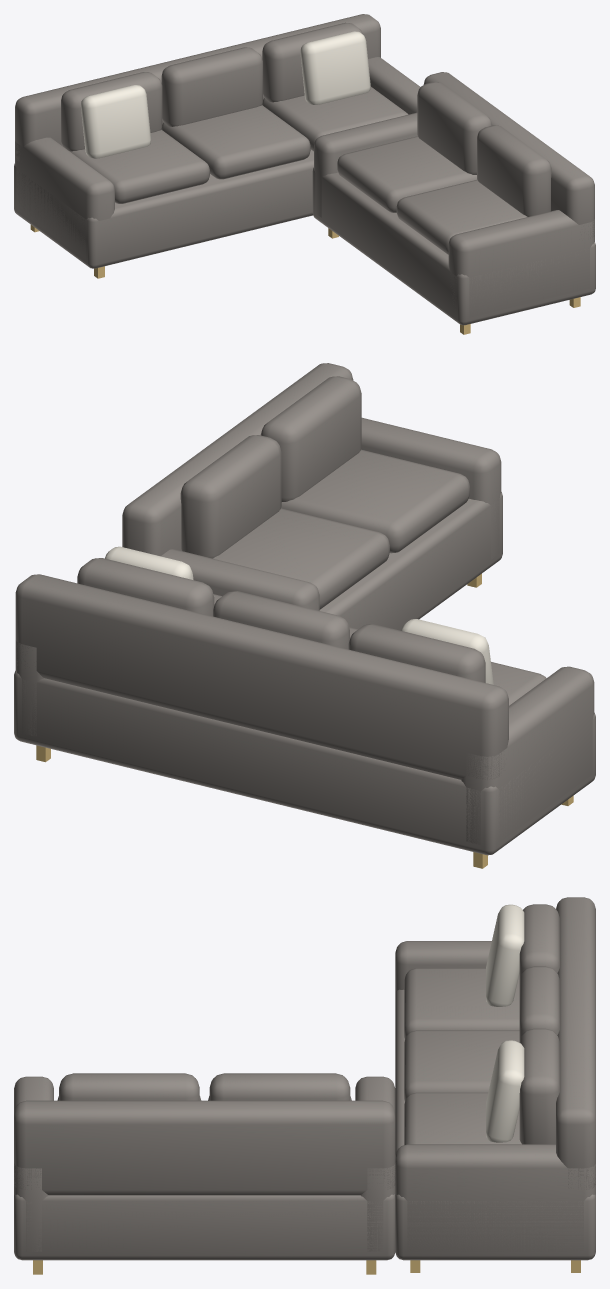
Rendered from fur_sofa_L.glb.
The picture shows the model from 3 angles, top to bottom: view 1: azimuth 30°, elevation 25°; view 2: azimuth 150°, elevation 25°; view 3: azimuth 270°, elevation 25°; orthographic projection. The views are drawn at different scales.
Parts seen in each view (by area): view 1: FUR_sofa_L; view 2: FUR_sofa_L; view 3: FUR_sofa_L.
Part boxes in pixels (bbox=[...]): FUR_sofa_L: bbox=[14, 14, 595, 334]; FUR_sofa_L: bbox=[14, 363, 595, 868]; FUR_sofa_L: bbox=[14, 897, 595, 1274].
Bounding box in the file's own units: 2.6 × 1.01 × 2.9.
Materials: 2 (1 with a texture image).
